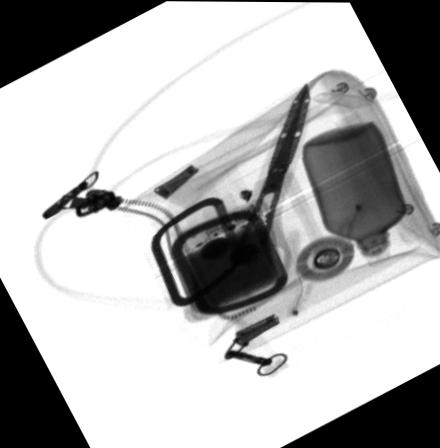Powerbank: (166, 195, 292, 323)
Scissors: (193, 80, 314, 311)
